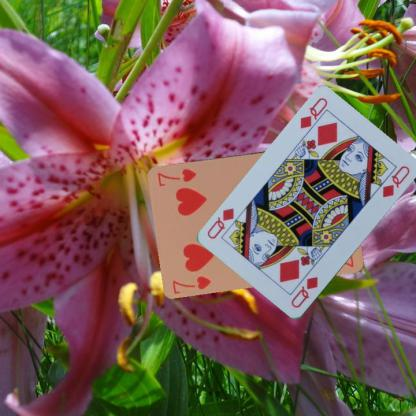7h: (170, 273, 212, 295)
Qd: (297, 95, 329, 138), (288, 274, 320, 310)
